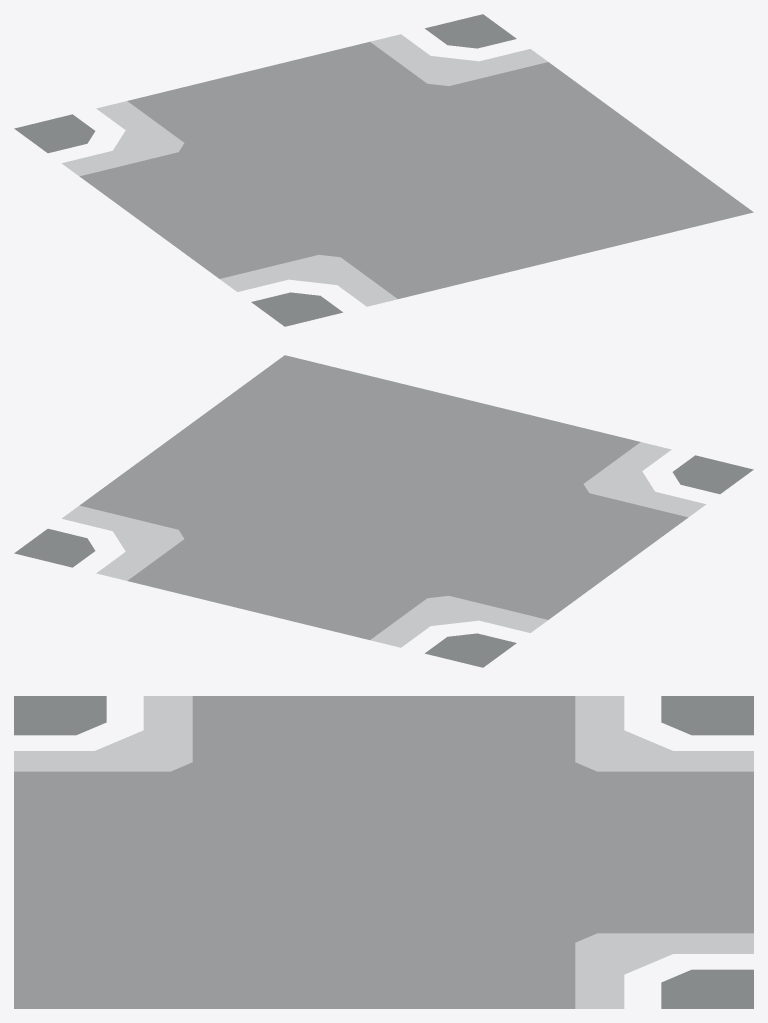
The model's file is Ceiling_type_A_006.glb.
3 renders of one model, top to bottom at view 1: azimuth 30°, elevation 25°; view 2: azimuth 150°, elevation 25°; view 3: azimuth 270°, elevation 25°, orthographic. The views are drawn at different scales.
Parts seen in each view (by area): view 1: Ceiling_type_A_006; view 2: Ceiling_type_A_006; view 3: Ceiling_type_A_006.
Boxes of the visible parts, x1,y1,x2,y2 form: Ceiling_type_A_006: (14, 14, 753, 326); Ceiling_type_A_006: (14, 355, 753, 667); Ceiling_type_A_006: (14, 696, 753, 1008).
Bounding box in the file's own units: 4 × 0.0455 × 4.
2 materials, 2 textured.
